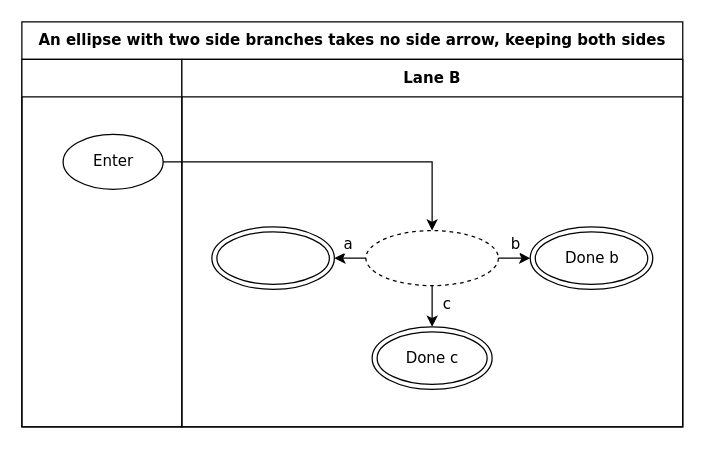
The diagram is 705 pixels wide and 449 high, and some of its shapes have lost their labels. The box of each missing label's shape, as (x1, y1, x2, y2) in pixels:
Done a: (211, 226, 334, 289)
Lane A: (21, 58, 182, 427)
System X: (365, 229, 498, 286)
